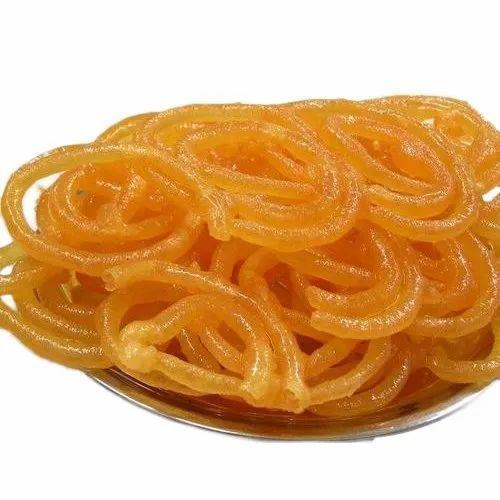jalebi: (6, 99, 500, 430)
